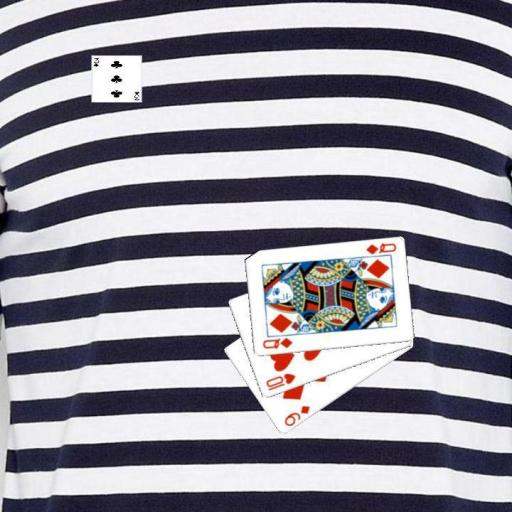card-corner: (281, 403, 311, 428), (262, 370, 296, 392), (260, 334, 294, 351), (362, 240, 398, 256)
